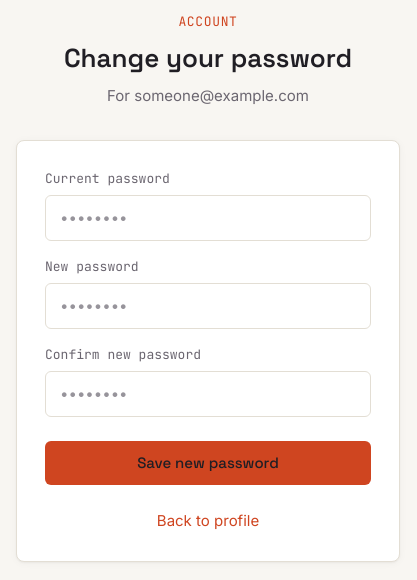
ChangePasswordPage › shows a success state after changing the password
Type "oldpassword" into the password field with placeholder "••••••••" at point(208, 218), box [45, 195, 371, 241]
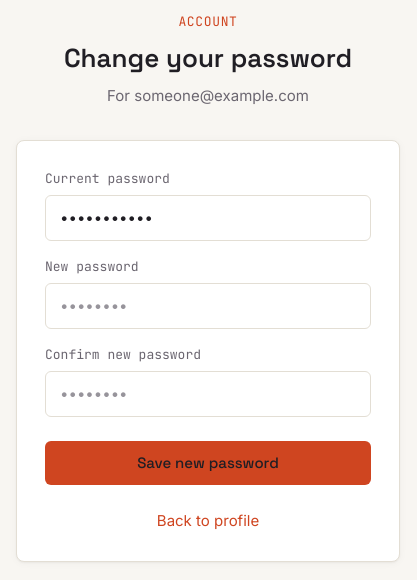
Type "newpassword1" into the password field with placeholder "••••••••" at point(208, 306), box [45, 283, 371, 329]
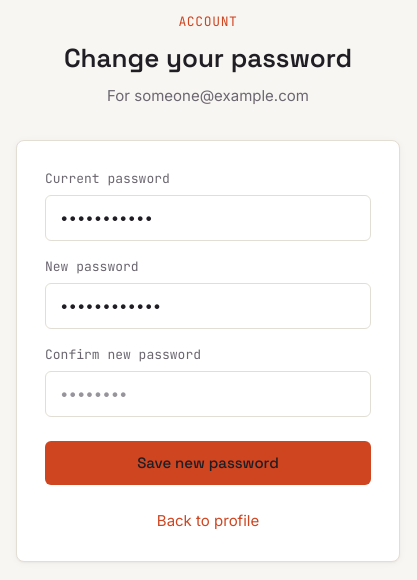
Type "newpassword1" into the password field with placeholder "••••••••" at point(208, 394), box [45, 371, 371, 417]
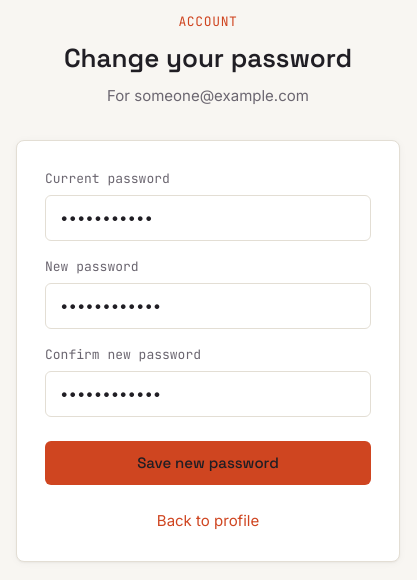
Click the button "Save new password" at point(208, 463), box [45, 441, 371, 485]
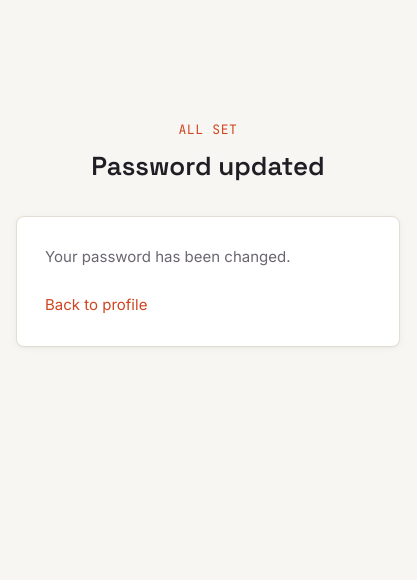
Check: the heading "Password updated" is shown, box [91, 149, 325, 183]
